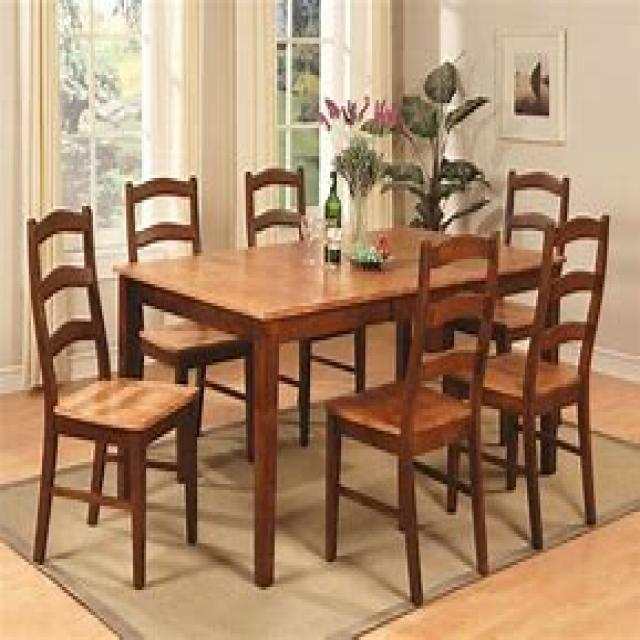chair: (24, 203, 200, 587), (324, 228, 501, 606), (441, 209, 609, 550), (122, 172, 252, 480), (244, 162, 366, 444)
table: (111, 222, 567, 587)
